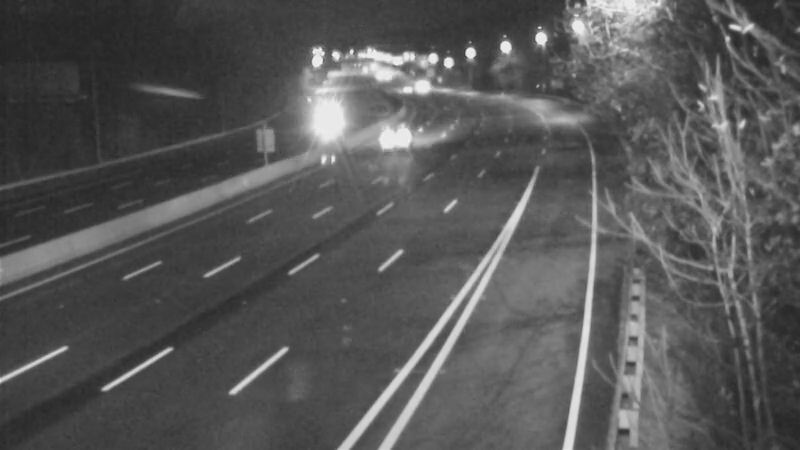vehicle: (396, 62, 446, 112), (378, 62, 428, 112), (380, 109, 430, 159), (292, 93, 342, 143)
